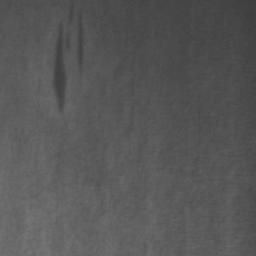Inclusion: (55, 23, 68, 113), (79, 17, 86, 67)
